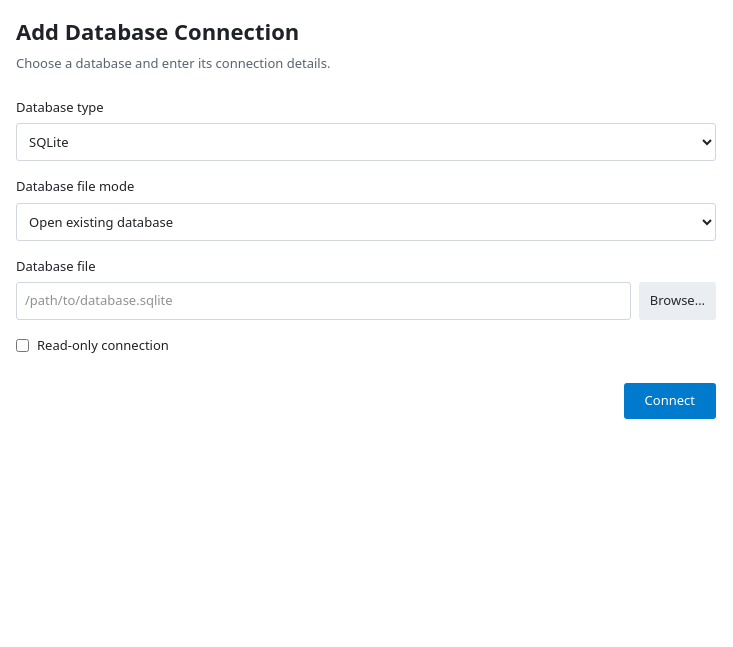
Test case: scopes server access controls to grid edits and accepts non-secret edit prefills
Select "PostgreSQL" in the dropdown labelled "Database type" at (366, 142), box [16,123,716,161]
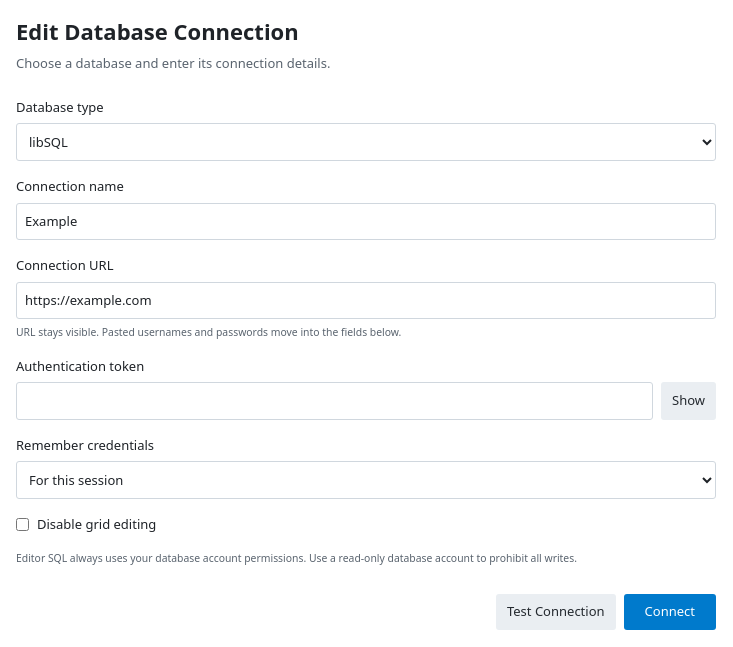
Check: the label labelled "Read-only connection" is gone
Check: the checkbox labelled "Disable grid editing" is shown, box [16,518,29,531]
Check: the text "Editor SQL always uses" is shown, box [16,551,577,565]
